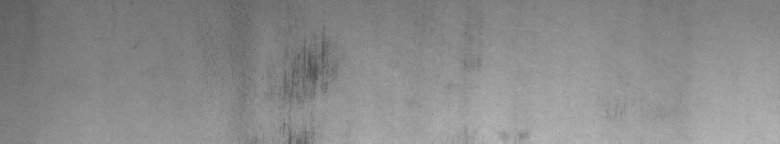ka: (283, 36, 330, 136)
